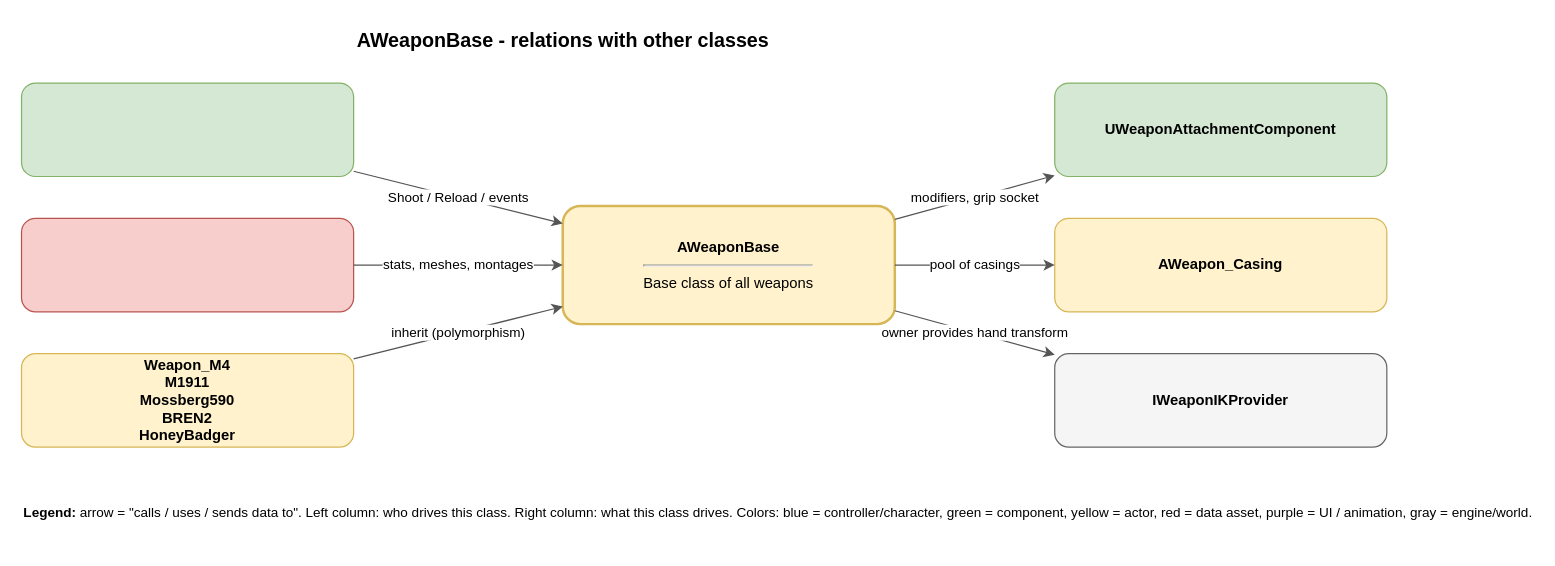
Some shapes in this 1555 by 566 pixel diagram are drawn without their labels. The centre of each missing label's shape, as x and y in pixels:
"UWeaponData" belongs at pixel 187 264.
"UWeaponManager" belongs at pixel 187 129.
